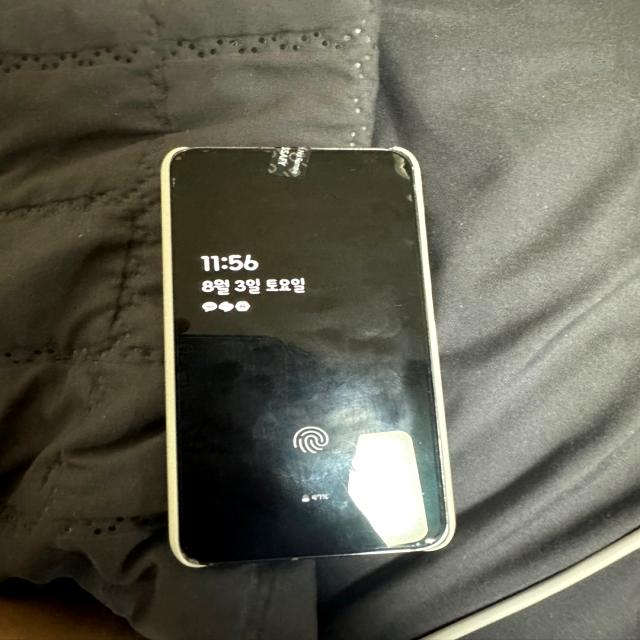phone: (162, 146, 463, 571)
removed_sticker: (269, 146, 312, 178)
